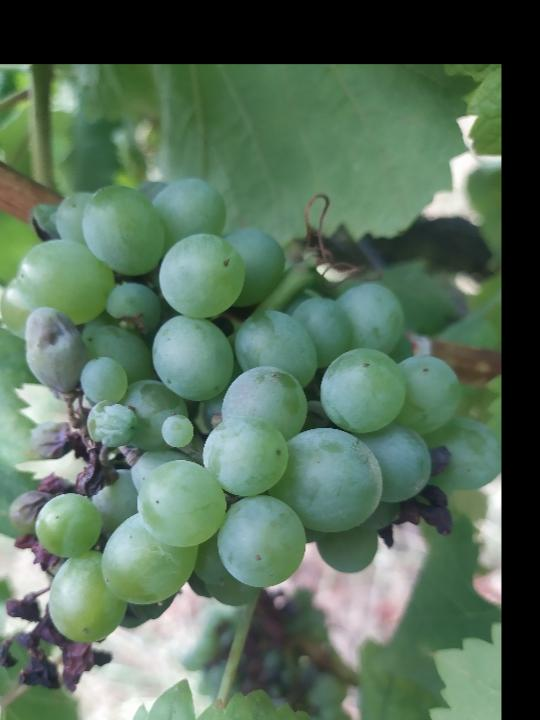grape: (0, 175, 501, 697)
